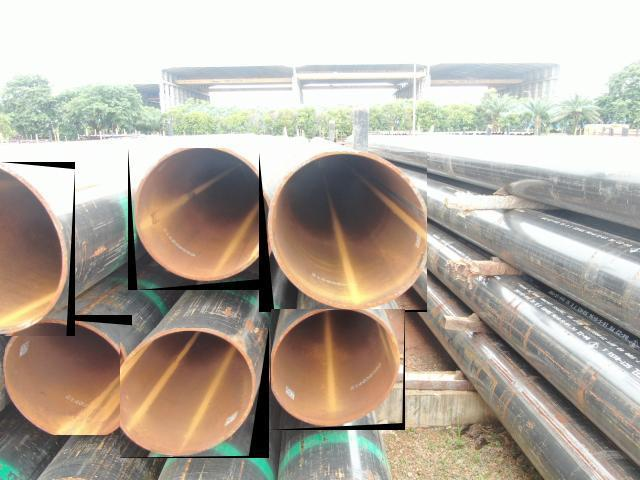pipe: (259, 152, 427, 312), (128, 148, 266, 290), (120, 328, 269, 458), (272, 309, 406, 430), (5, 315, 132, 435), (0, 163, 75, 336)
